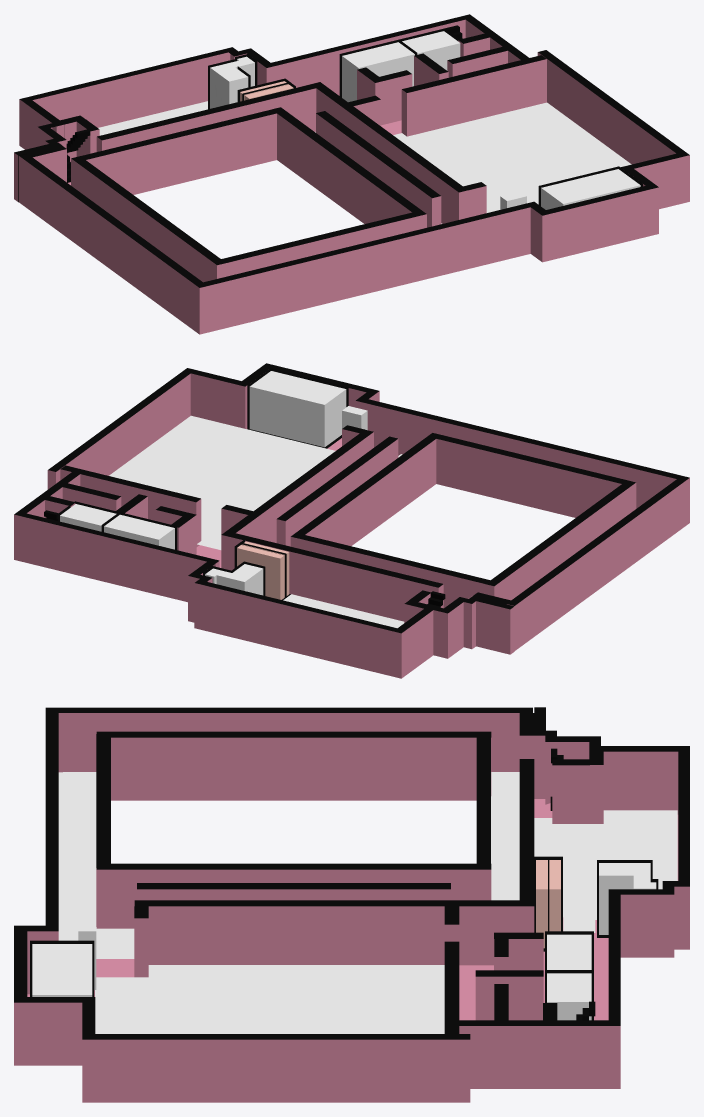
The picture shows the model from 3 angles, top to bottom: view 1: azimuth 30°, elevation 25°; view 2: azimuth 150°, elevation 25°; view 3: azimuth 270°, elevation 25°; orthographic projection. The views are drawn at different scales.
Parts seen in each view (by area): view 1: object, room_S_2_2, room_S_2_4, room_S_2_6, room_S_2_7, object_line, room_S_2_5, room_S_2_1; view 2: object, room_S_2_2, room_S_2_6, room_S_2_4, トイレ_S_2_2, object_line, room_S_2_1, room_S_2_7, object_line.005, room_S_2_5; view 3: object, room_S_2_2, room_S_2_3, room_S_2_1, room_S_2_6, object_line, room_S_2_7, room_S_2_4, トイレ_S_2_1, トイレ_S_2_2, room_S_2_8.
Part boxes in pixels (x1,y1,x2,y2): object: [14, 14, 689, 334]; room_S_2_2: [393, 102, 631, 212]; room_S_2_4: [342, 42, 414, 102]; room_S_2_6: [541, 169, 640, 209]; room_S_2_7: [402, 31, 460, 70]; object_line: [208, 54, 257, 109]; room_S_2_5: [210, 59, 254, 108]; room_S_2_1: [98, 101, 207, 135]; object: [14, 363, 689, 678]; room_S_2_2: [109, 415, 335, 549]; room_S_2_6: [249, 371, 346, 447]; room_S_2_4: [104, 514, 174, 549]; トイレ_S_2_2: [237, 545, 284, 599]; object_line: [203, 561, 265, 595]; room_S_2_1: [283, 594, 404, 628]; room_S_2_7: [60, 504, 116, 531]; object_line.005: [247, 368, 348, 448]; room_S_2_5: [205, 569, 263, 595]; object: [14, 707, 689, 1102]; room_S_2_2: [95, 965, 444, 1033]; room_S_2_3: [58, 772, 519, 958]; room_S_2_1: [534, 810, 677, 932]; room_S_2_6: [32, 944, 92, 996]; object_line: [597, 860, 658, 937]; room_S_2_7: [547, 973, 591, 1020]; room_S_2_4: [547, 934, 591, 969]; トイレ_S_2_1: [536, 860, 547, 948]; トイレ_S_2_2: [549, 860, 560, 931]; room_S_2_8: [97, 928, 134, 944].
Size of the model in its own units: 1.98 by 0.181 by 1.7.
